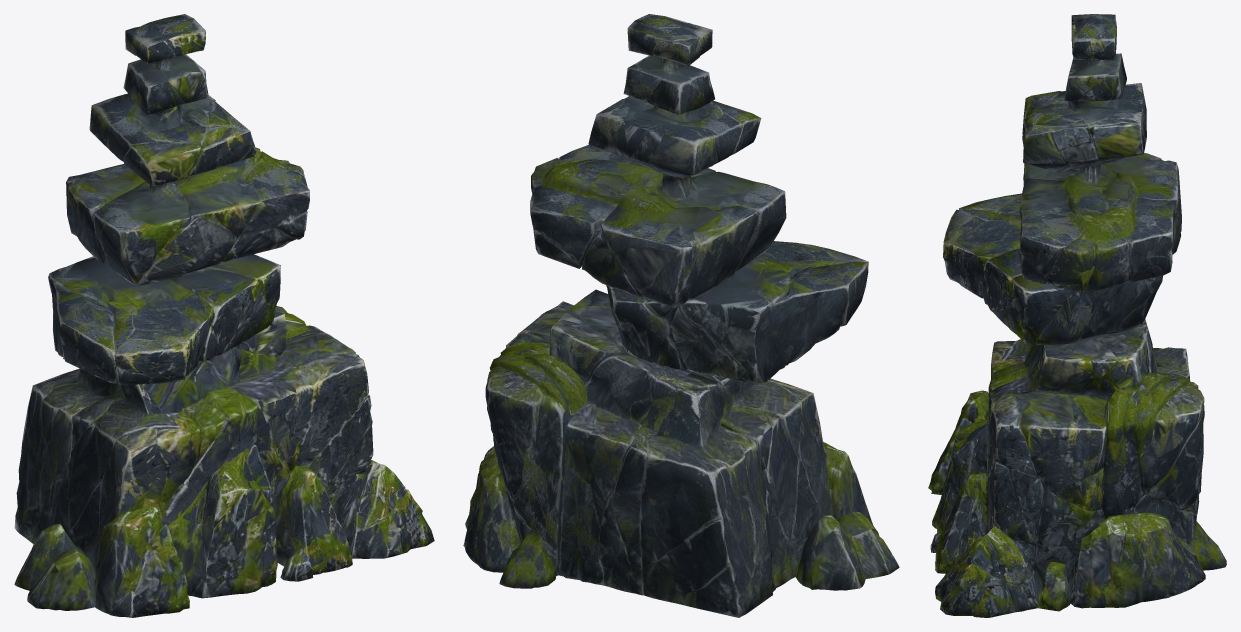
File: cyclopean_stepped_cairn.glb
The picture shows the model from 3 angles, left to right: view 1: azimuth 30°, elevation 25°; view 2: azimuth 150°, elevation 25°; view 3: azimuth 270°, elevation 25°; orthographic projection. The views are drawn at different scales.
Visible parts, largest first — view 1: Model; view 2: Model; view 3: Model.
Boxes of the visible parts, x1,y1,x2,y2 form: Model: [14, 14, 434, 617]; Model: [463, 14, 899, 617]; Model: [928, 14, 1226, 617].
Size of the model in its own units: 31.07 by 40 by 21.8.
Materials: 1 (1 with a texture image).
